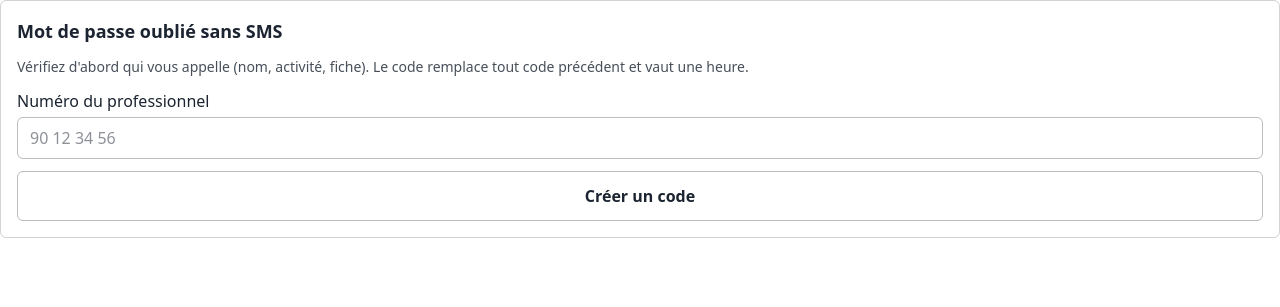
it: ResetCodeForm › says when no professional has this number
Type "97 80 00 99" into the field labelled "Numéro du professionnel". click: coordinates (640, 138)
box: [17,117,1263,159]
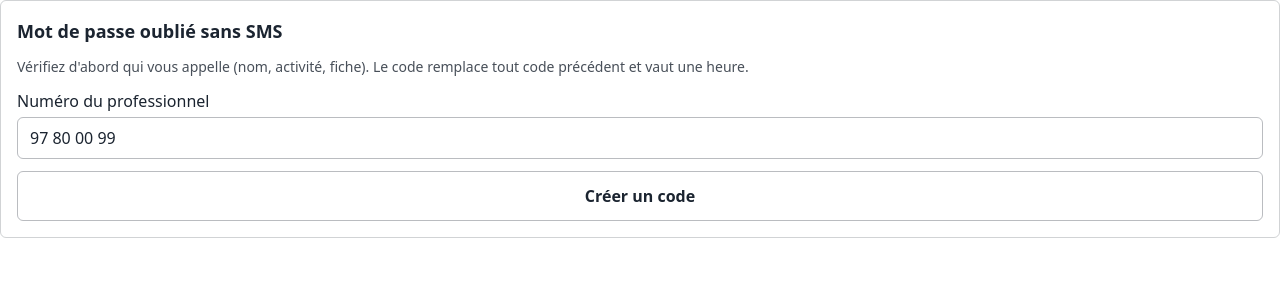
Click the button "Créer un code". click: coordinates (640, 196)
box: [17,171,1263,221]
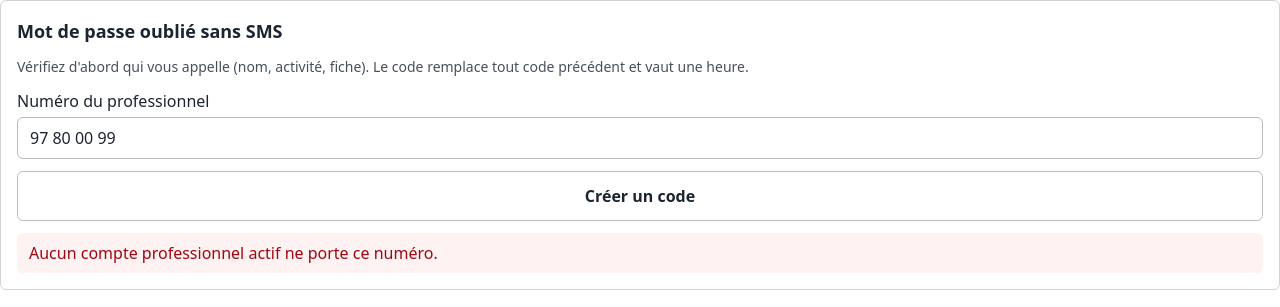
Result: the message shows "Aucun compte" at [29,242,438,264]
